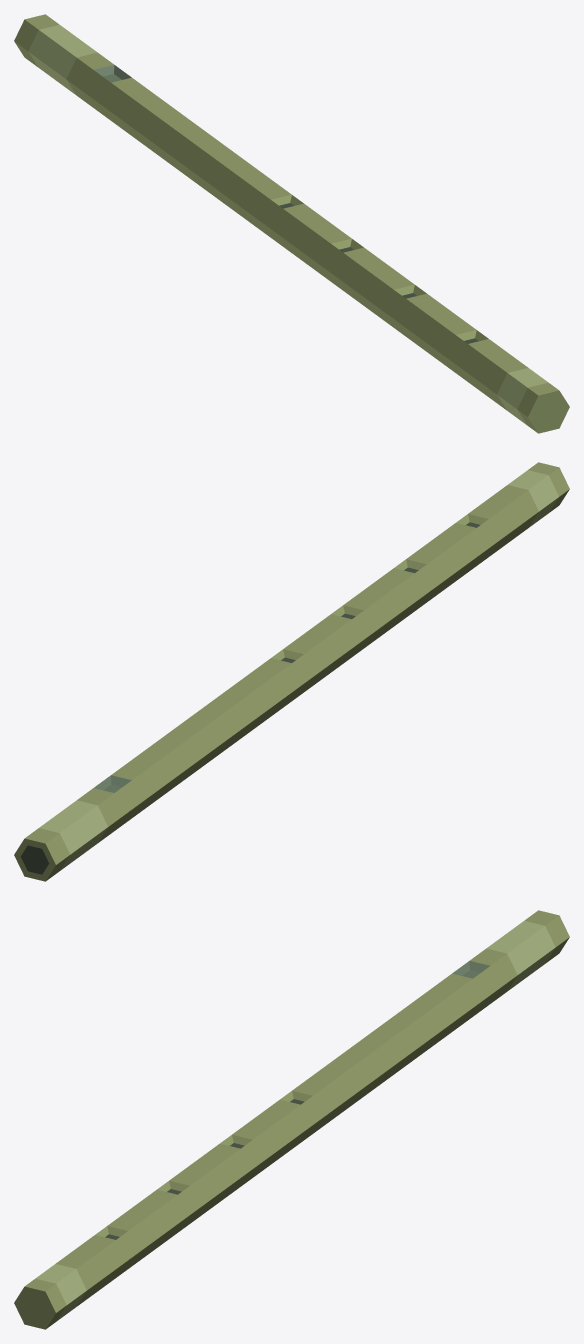
The model's file is SM_Prop_Flute_01.fbx.
The picture shows the model from 3 angles, top to bottom: view 1: azimuth 30°, elevation 25°; view 2: azimuth 150°, elevation 25°; view 3: azimuth 330°, elevation 25°; orthographic projection.
Parts seen in each view (by area): view 1: SM_Prop_Flute_01; view 2: SM_Prop_Flute_01; view 3: SM_Prop_Flute_01.
Boxes of the visible parts, box(x1,y1,x2,y2) form: SM_Prop_Flute_01: box(14, 14, 569, 433); SM_Prop_Flute_01: box(14, 462, 569, 881); SM_Prop_Flute_01: box(14, 910, 569, 1329).
Size of the model in its own units: 0.000345 by 0.000299 by 0.0073.
Materials: 1 (1 with a texture image).
